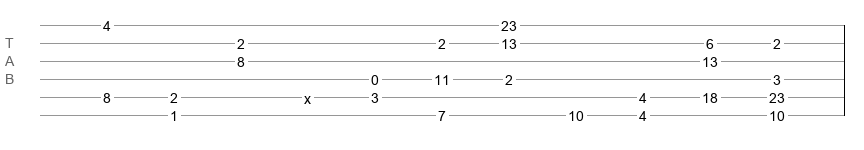0: (371, 72, 379, 82)
1: (170, 108, 178, 118)
10: (568, 108, 584, 118), (769, 108, 785, 118)
11: (434, 72, 450, 82)
13: (501, 36, 517, 46), (702, 54, 718, 64)
18: (702, 90, 718, 100)
2: (170, 90, 178, 100), (237, 36, 245, 46), (438, 36, 446, 46), (505, 72, 513, 82), (773, 36, 781, 46)
23: (501, 18, 517, 28), (769, 90, 785, 100)
3: (371, 90, 379, 100), (773, 72, 781, 82)
4: (103, 18, 111, 28), (639, 108, 647, 118), (639, 90, 647, 100)
6: (706, 36, 714, 46)
7: (438, 108, 446, 118)
8: (103, 90, 111, 100), (237, 54, 245, 64)
x: (304, 91, 311, 99)
